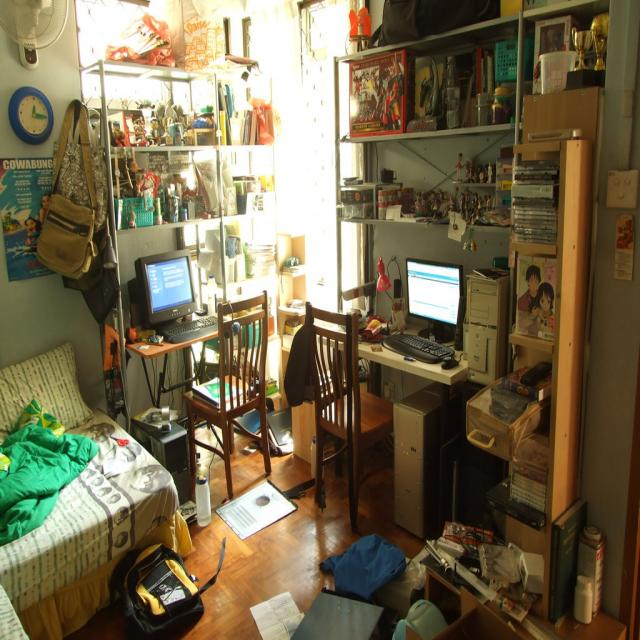chair: (307, 302, 394, 534), (182, 291, 272, 503)
desk: (252, 288, 557, 552)
keyboard: (382, 331, 454, 362), (162, 315, 220, 344)
mouse: (441, 356, 458, 369)
tv: (134, 251, 198, 325), (406, 259, 464, 336)
